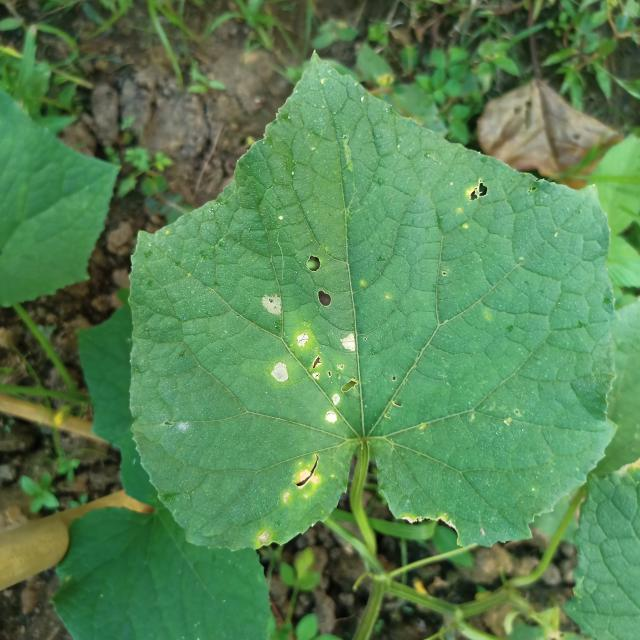disease_cucumber: (244, 281, 370, 436)
